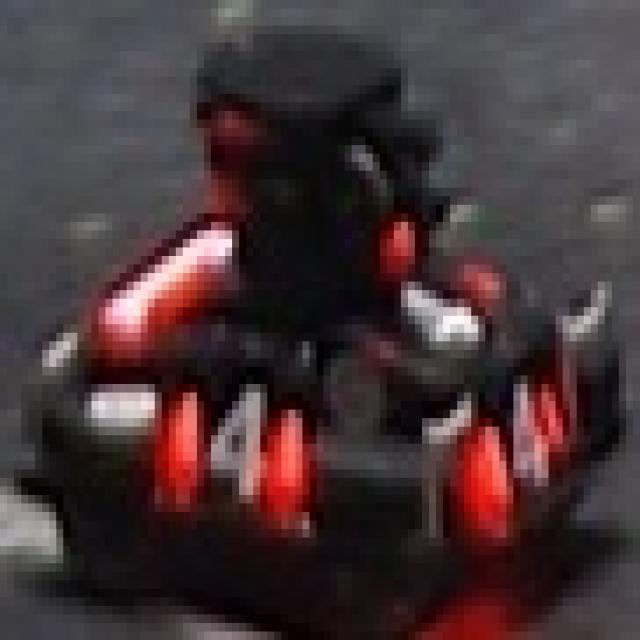R4: (169, 375, 309, 512), (478, 367, 570, 512)
